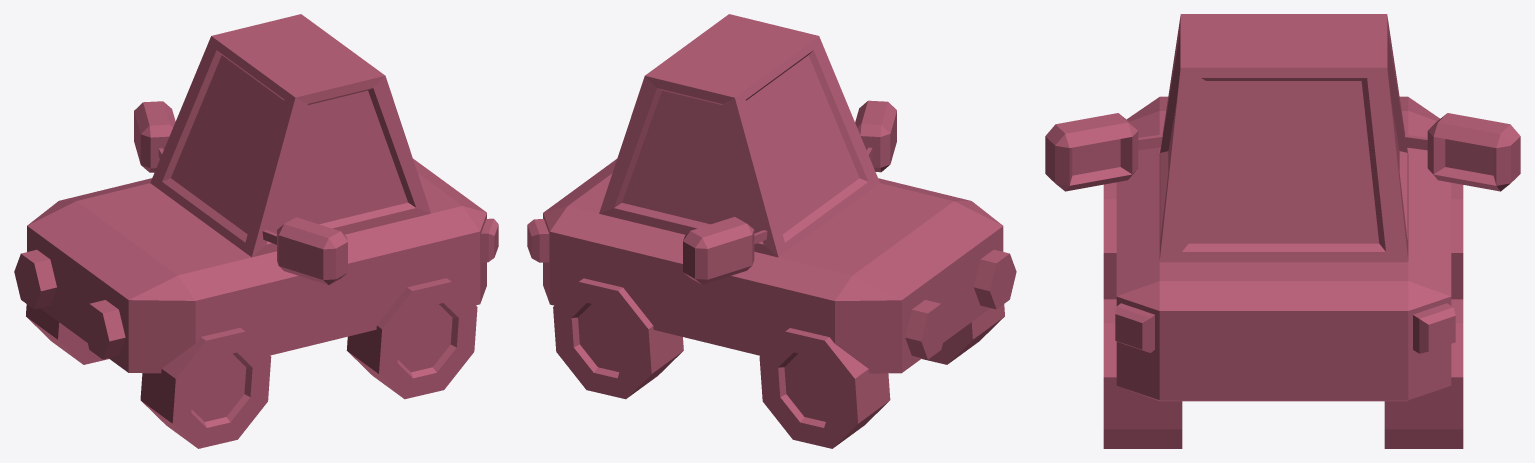
File: car.fbx
3 views of the same model, side by side, from view 1: azimuth 30°, elevation 25°; view 2: azimuth 150°, elevation 25°; view 3: azimuth 270°, elevation 25° (orthographic). The views are drawn at different scales.
Parts seen in each view (by area): view 1: test_car_7; view 2: test_car_7; view 3: test_car_7.
Part boxes in pixels (x1,y1,x2,y2): test_car_7: (14,14,498,448); test_car_7: (527,14,1016,448); test_car_7: (1045,14,1520,448).
Size of the model in its own units: 82.01 by 61.11 by 72.13.
